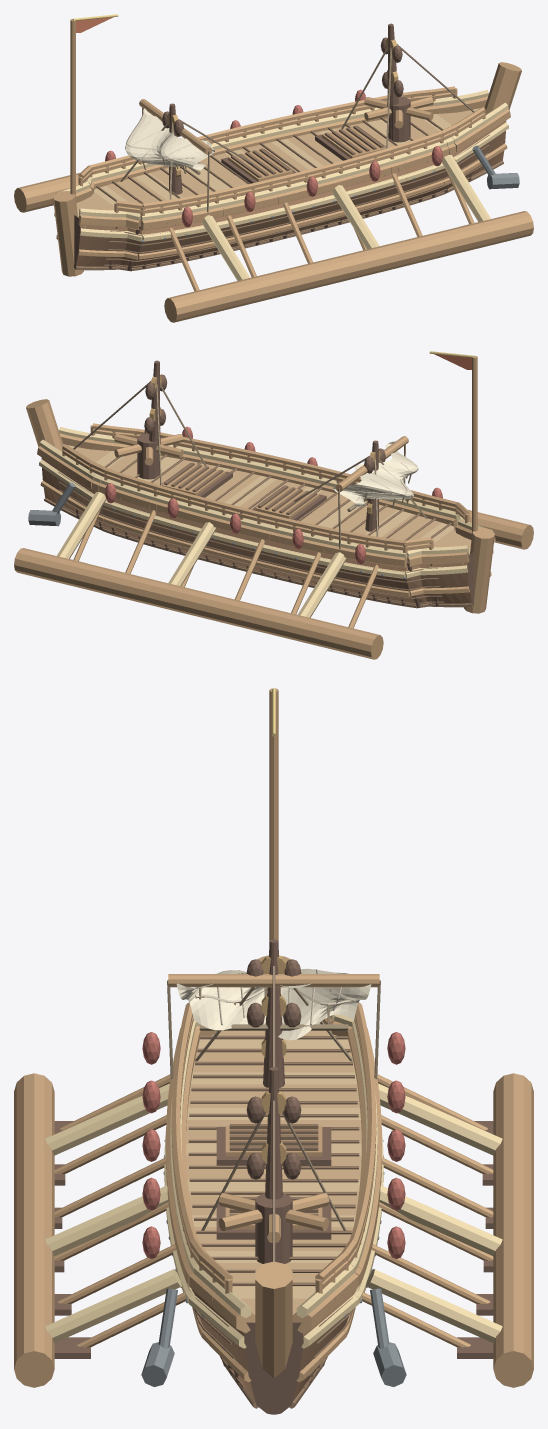
File: coracora-v5.glb
3 views of the same model, one above another, from view 1: azimuth 30°, elevation 25°; view 2: azimuth 150°, elevation 25°; view 3: azimuth 270°, elevation 25° (orthographic). The views are drawn at different scales.
Parts seen in each view (by area): view 1: coracora_oars_wood, coracora_hull_wood, coracora_hull_pale, coracora_railings_wood, coracora_hull_seam, coracora_hull_deck, coracora_hull_hull, coracora_hull_hull2, coracora_oars_pale, coracora_sails_sail, coracora_fittings_wood, coracora_hull_decklight (+11 smaller); view 2: coracora_oars_wood, coracora_hull_wood, coracora_hull_pale, coracora_railings_wood, coracora_hull_seam, coracora_hull_deck, coracora_hull_hull, coracora_hull_hull2, coracora_oars_pale, coracora_fittings_wood, coracora_sails_sail, coracora_hull_decklight (+11 smaller); view 3: coracora_oars_wood, coracora_oars_pale, coracora_hull_deck, coracora_hull_wood, coracora_hull_seam, coracora_hull_decklight, coracora_railings_wood, coracora_hull_pale, coracora_masts_darkwood, coracora_sails_sail, coracora_ornament_red, coracora_fittings_darkwood (+13 smaller).
Boxes of the visible parts, x1=… form: coracora_oars_wood: x1=14, y1=107, x2=533, y2=322; coracora_hull_wood: x1=52, y1=62, x2=521, y2=276; coracora_hull_pale: x1=54, y1=90, x2=508, y2=241; coracora_railings_wood: x1=78, y1=86, x2=485, y2=224; coracora_hull_seam: x1=75, y1=117, x2=503, y2=271; coracora_hull_deck: x1=76, y1=110, x2=473, y2=213; coracora_hull_hull: x1=74, y1=131, x2=505, y2=268; coracora_hull_hull2: x1=76, y1=120, x2=506, y2=267; coracora_oars_pale: x1=201, y1=155, x2=490, y2=280; coracora_sails_sail: x1=125, y1=108, x2=214, y2=170; coracora_fittings_wood: x1=228, y1=93, x2=433, y2=181; coracora_hull_decklight: x1=77, y1=107, x2=484, y2=226; coracora_oars_wood: x1=14, y1=444, x2=533, y2=659; coracora_hull_wood: x1=26, y1=399, x2=495, y2=613; coracora_hull_pale: x1=39, y1=427, x2=493, y2=578; coracora_railings_wood: x1=62, y1=423, x2=469, y2=561; coracora_hull_seam: x1=44, y1=454, x2=472, y2=608; coracora_hull_deck: x1=74, y1=447, x2=471, y2=550; coracora_hull_hull: x1=42, y1=468, x2=473, y2=605; coracora_hull_hull2: x1=41, y1=457, x2=471, y2=604; coracora_oars_pale: x1=57, y1=492, x2=346, y2=617; coracora_fittings_wood: x1=114, y1=430, x2=319, y2=518; coracora_sails_sail: x1=333, y1=441, x2=418, y2=507; coracora_hull_decklight: x1=63, y1=444, x2=470, y2=563; coracora_oars_wood: x1=14, y1=1073, x2=533, y2=1387; coracora_oars_pale: x1=45, y1=1083, x2=502, y2=1343; coracora_hull_deck: x1=186, y1=1023, x2=361, y2=1314; coracora_hull_wood: x1=166, y1=956, x2=381, y2=1382; coracora_hull_seam: x1=186, y1=1035, x2=361, y2=1408; coracora_hull_decklight: x1=186, y1=1039, x2=361, y2=1332; coracora_railings_wood: x1=171, y1=1002, x2=376, y2=1293; coracora_hull_pale: x1=164, y1=1014, x2=383, y2=1348; coracora_masts_darkwood: x1=246, y1=939, x2=301, y2=1199; coracora_sails_sail: x1=176, y1=968, x2=371, y2=1040; coracora_ornament_red: x1=142, y1=1032, x2=405, y2=1259; coracora_fittings_darkwood: x1=216, y1=1127, x2=331, y2=1263.
Bounding box in the file's own units: 42.82 × 22.55 × 25.95.
